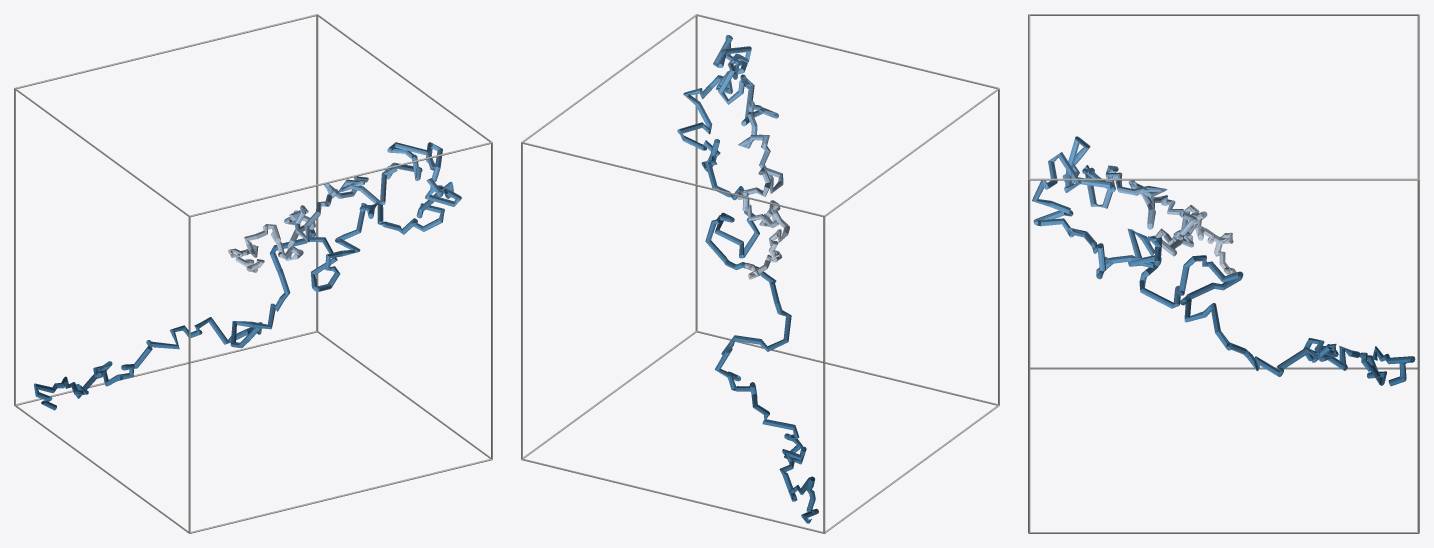
The picture shows the model from 3 angles, left to right: view 1: azimuth 30°, elevation 25°; view 2: azimuth 150°, elevation 25°; view 3: azimuth 270°, elevation 25°; orthographic projection. The views are drawn at different scales.
Parts seen in each view (by area): view 1: geometry_0, geometry_1; view 2: geometry_0, geometry_1; view 3: geometry_0, geometry_1.
Part boxes in pixels (x1=…): geometry_0: x1=34, y1=142, x2=461, y2=410; geometry_1: x1=14, y1=14, x2=492, y2=533; geometry_0: x1=677, y1=35, x2=818, y2=523; geometry_1: x1=521, y1=14, x2=999, y2=533; geometry_0: x1=1032, y1=136, x2=1415, y2=386; geometry_1: x1=1028, y1=14, x2=1419, y2=533.
Size of the model in its own units: 0.3016 by 0.3049 by 0.3016.
